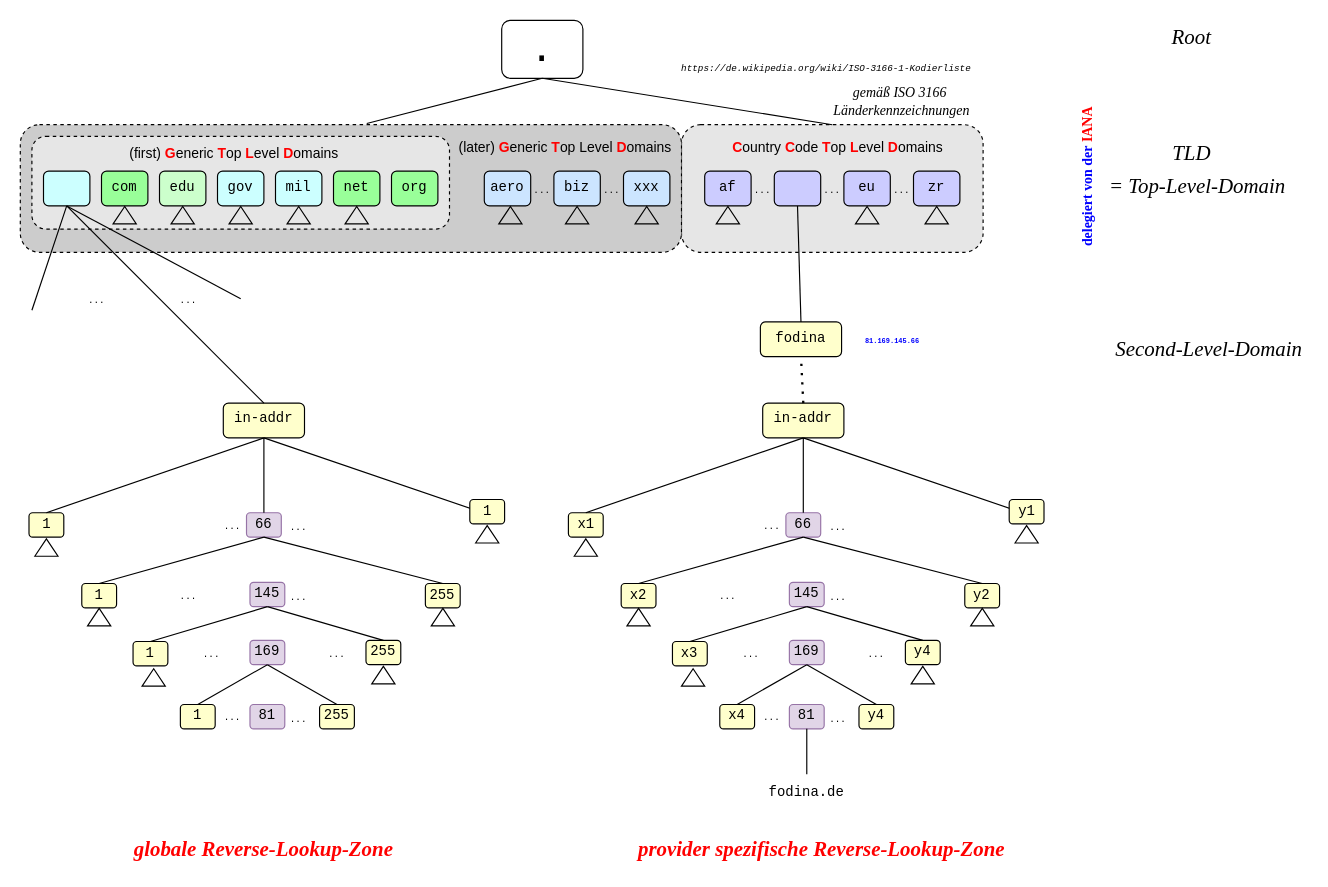
Some shapes in this 1328 by 887 pixel diagram are drawn without their labels. The shapes that lost their labels are listed below. From the top down, each one's box as (x1, y1, x2, y2) in pixels, then its label:
(42, 170, 90, 206): arpa
(773, 170, 821, 206): de
